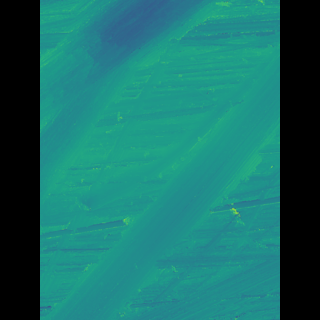Loch: (74, 41, 249, 320), (69, 0, 218, 205)
